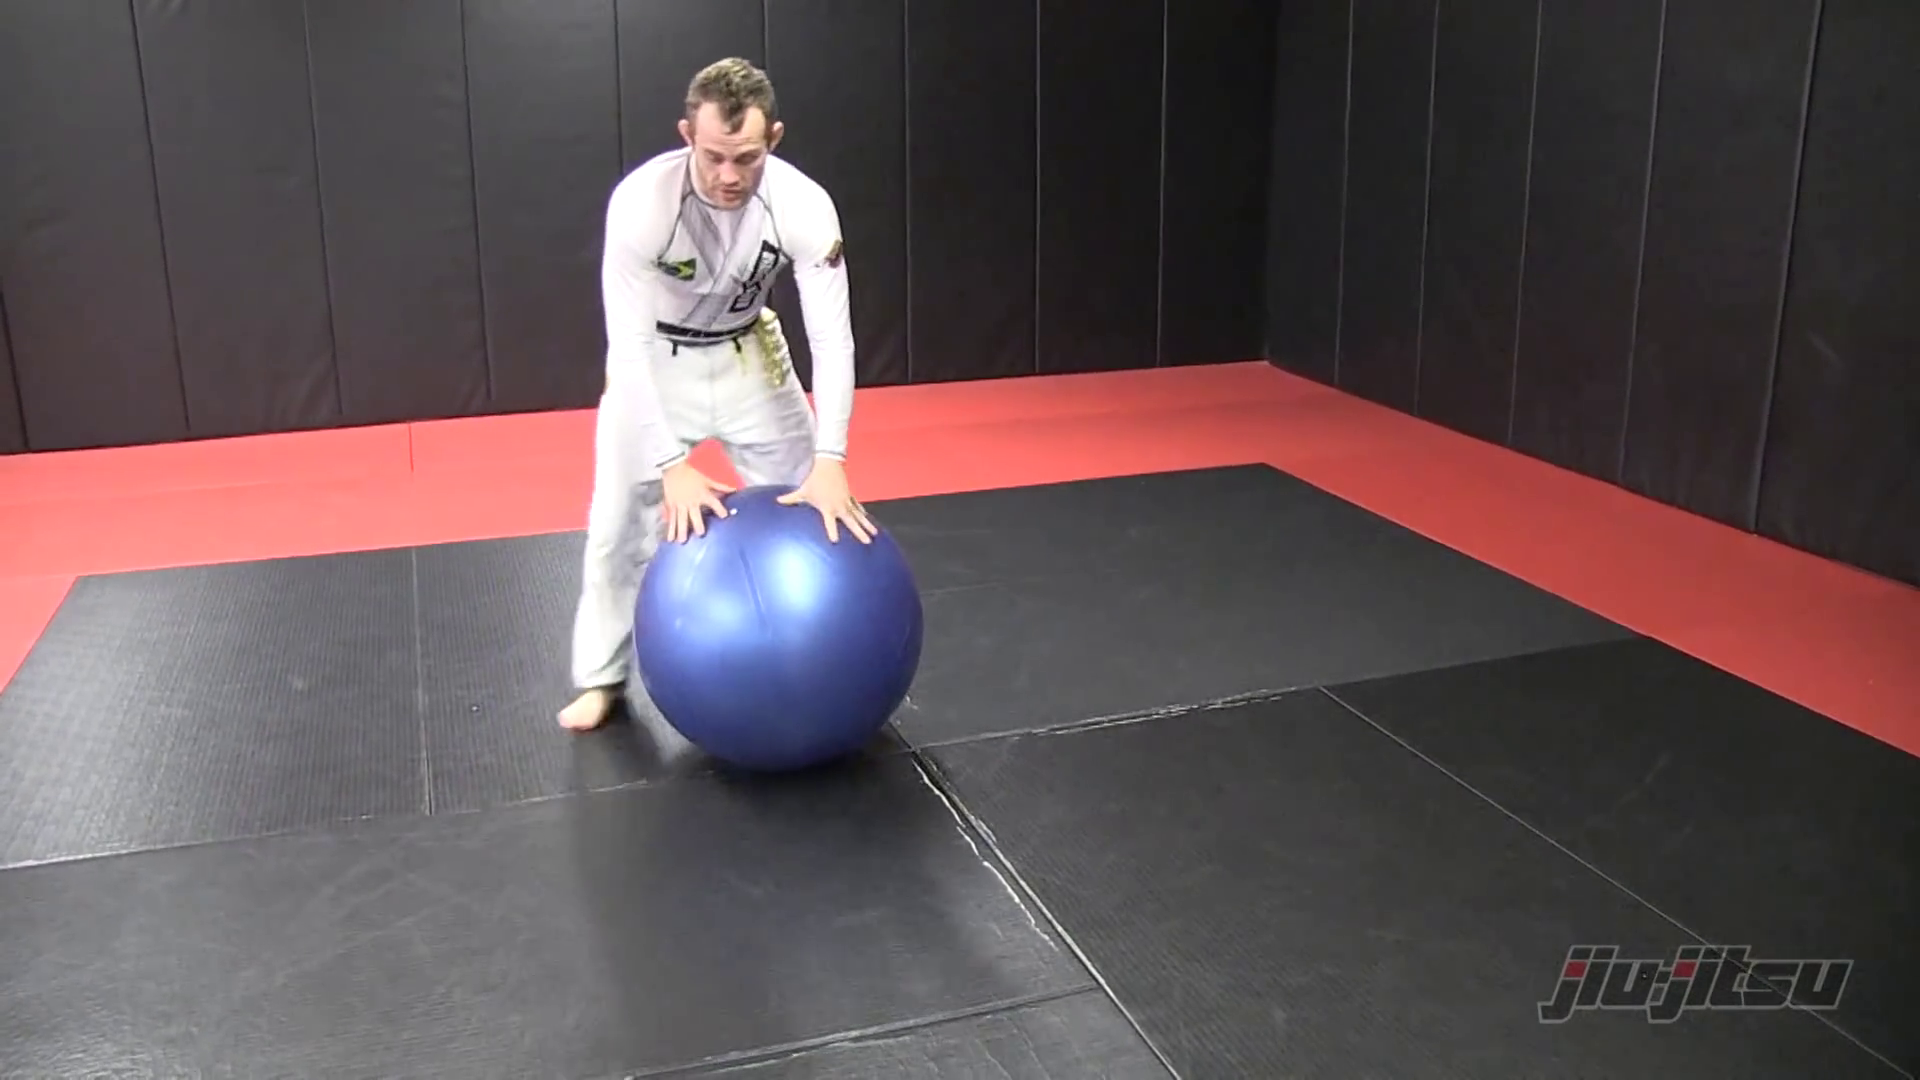yogaball: (622, 469, 938, 800)
